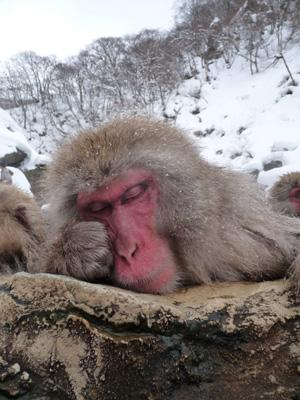monkey: (31, 116, 300, 295)
